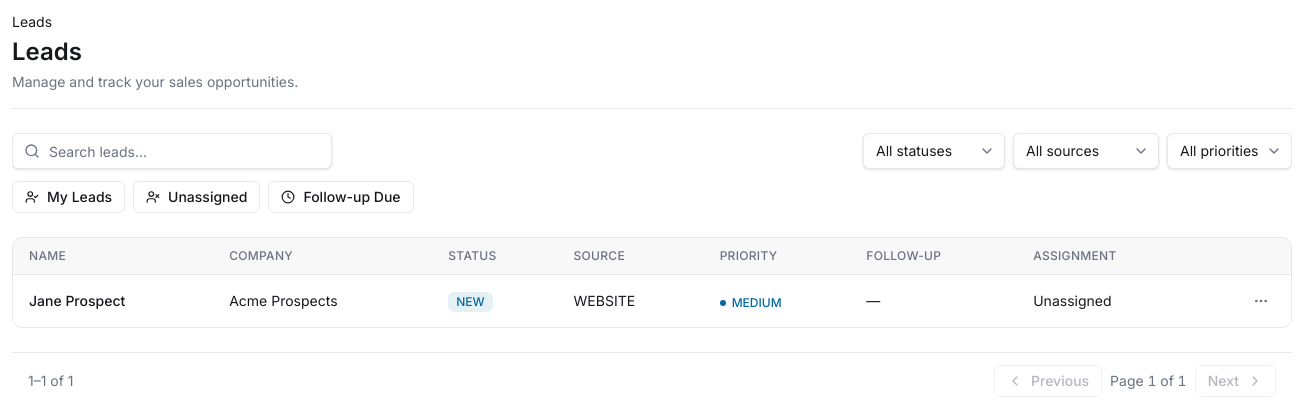
Scenario: LeadsListPage RBAC visibility › EMPLOYEE sees leads but no Create lead button and no Edit/Archive row actions
The image size is (1304, 414).
Check: the link "Jane Prospect" is shown, box [29,292,125,309]
What coordinates should you click on to do the following:
click the button named "Actions for Jane Prospect"
I would click on:
 (1261, 301)
Its box is [1247,287,1275,315].
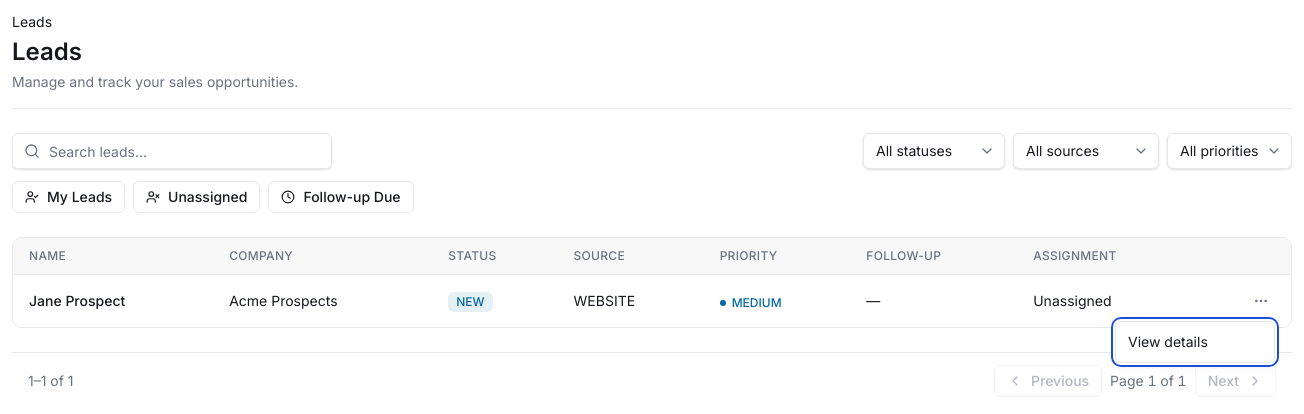
Check: the menu item "View details" is shown, box [1128,333,1208,350]
